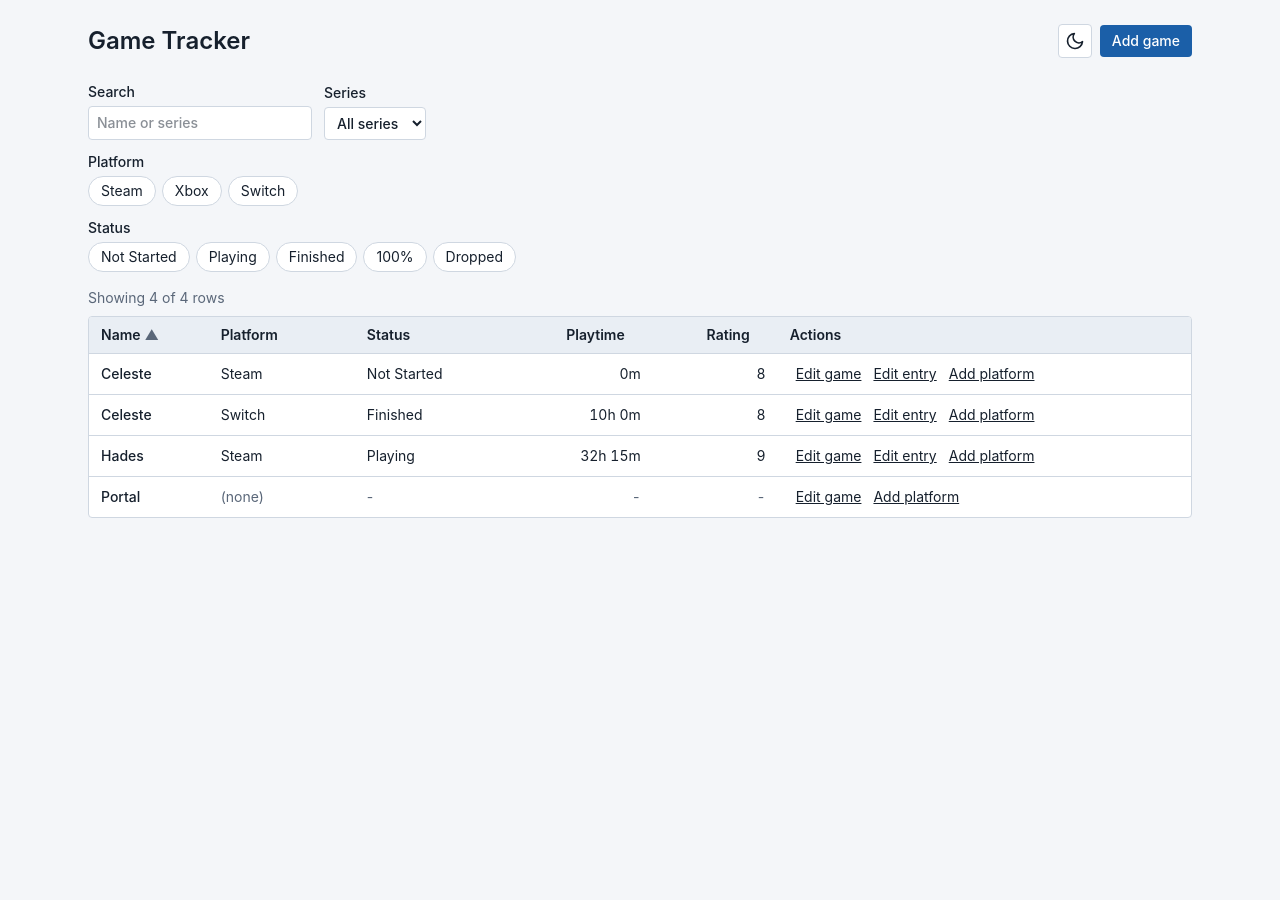
it: LibraryPage › deletes a game only after confirmation
This screenshot has width=1280, height=900.
Expected: the table is shown, [89,317,1191,517]
# Celeste has two rows, each with its own "Edit game" button.
Click the button with aria-label "Edit game Celeste" at [829, 374], box [790,362,868,386]
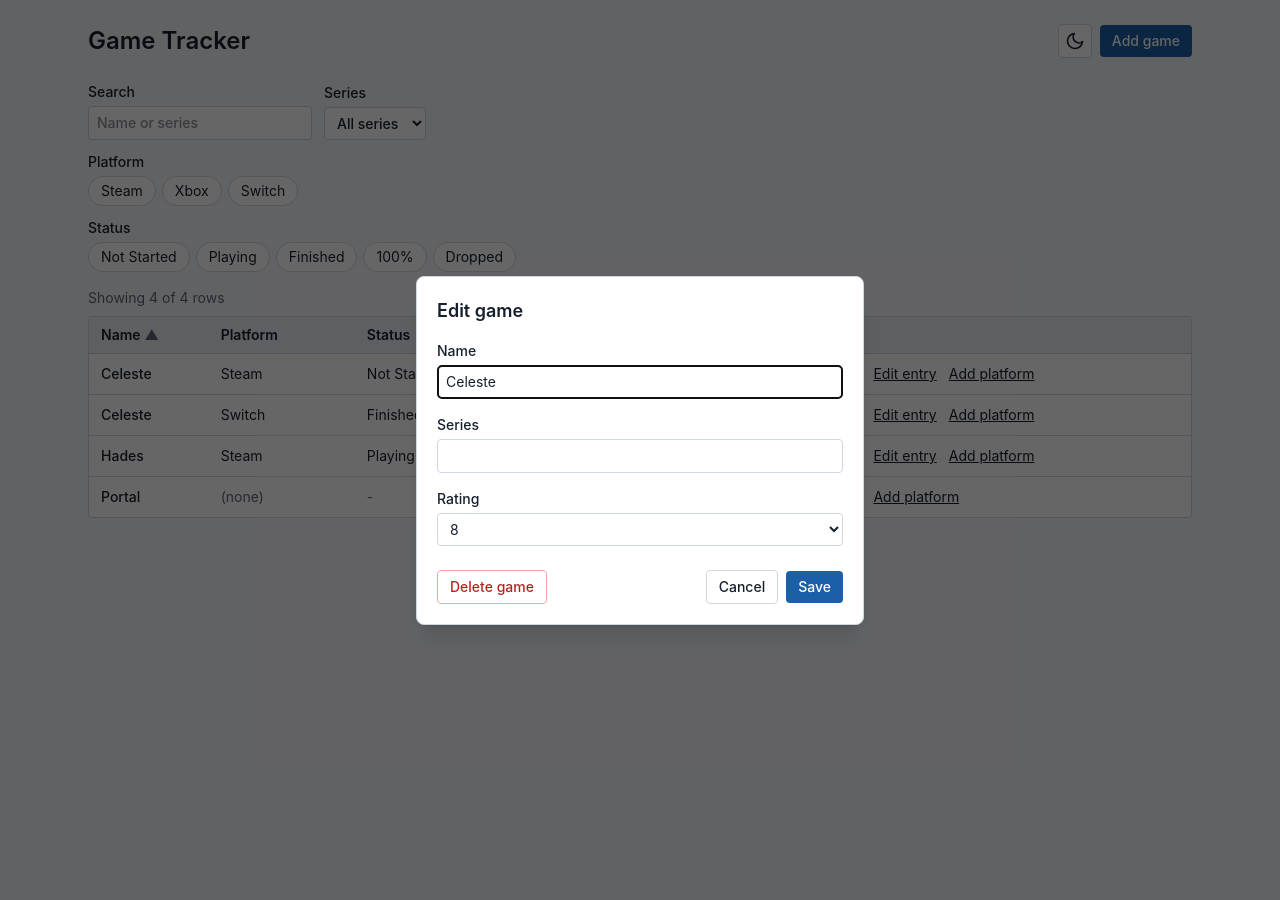
Click the button "Delete game" at [492, 586], box [437,570,547,604]
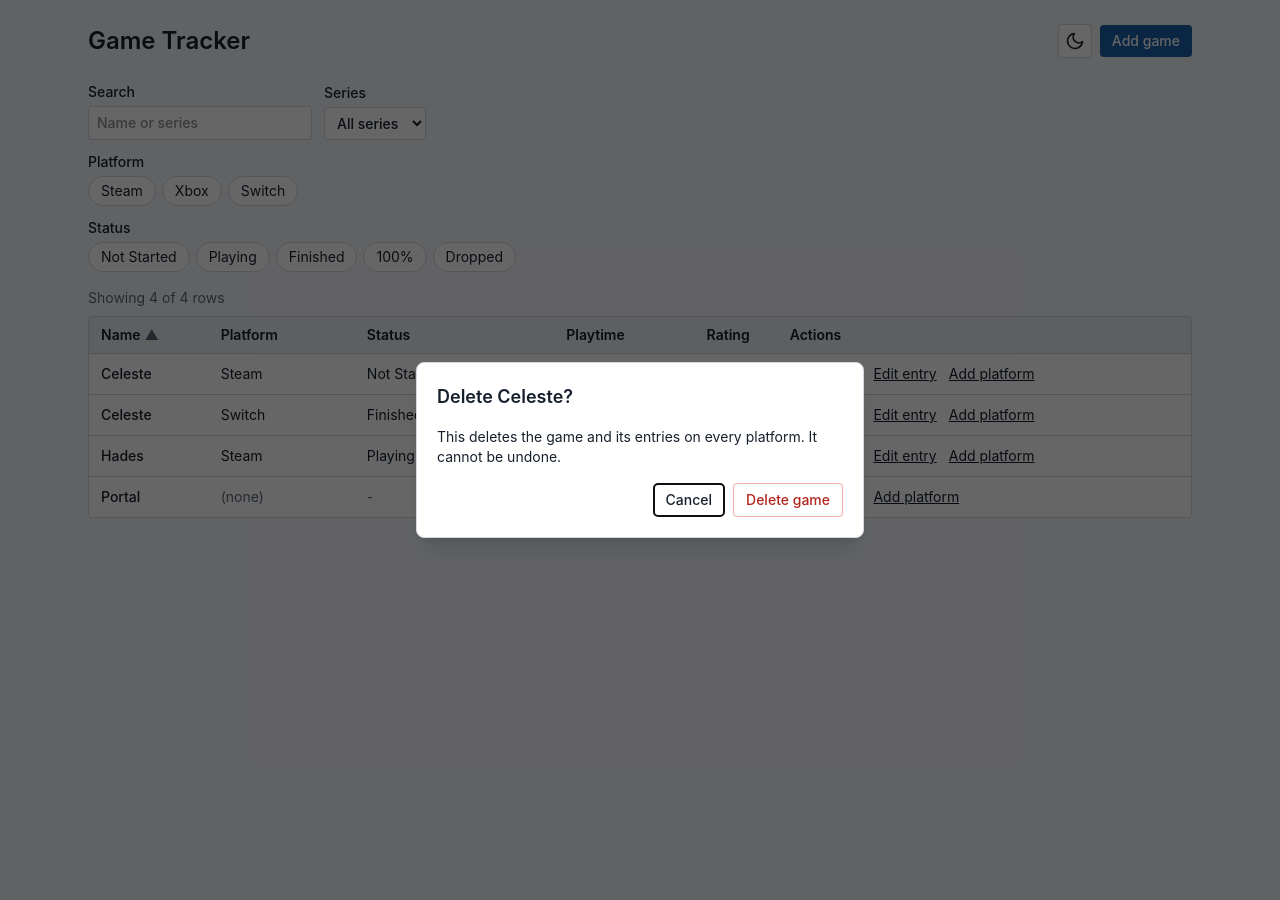
Click the button "Delete game" at [788, 500], box [733,483,843,517]
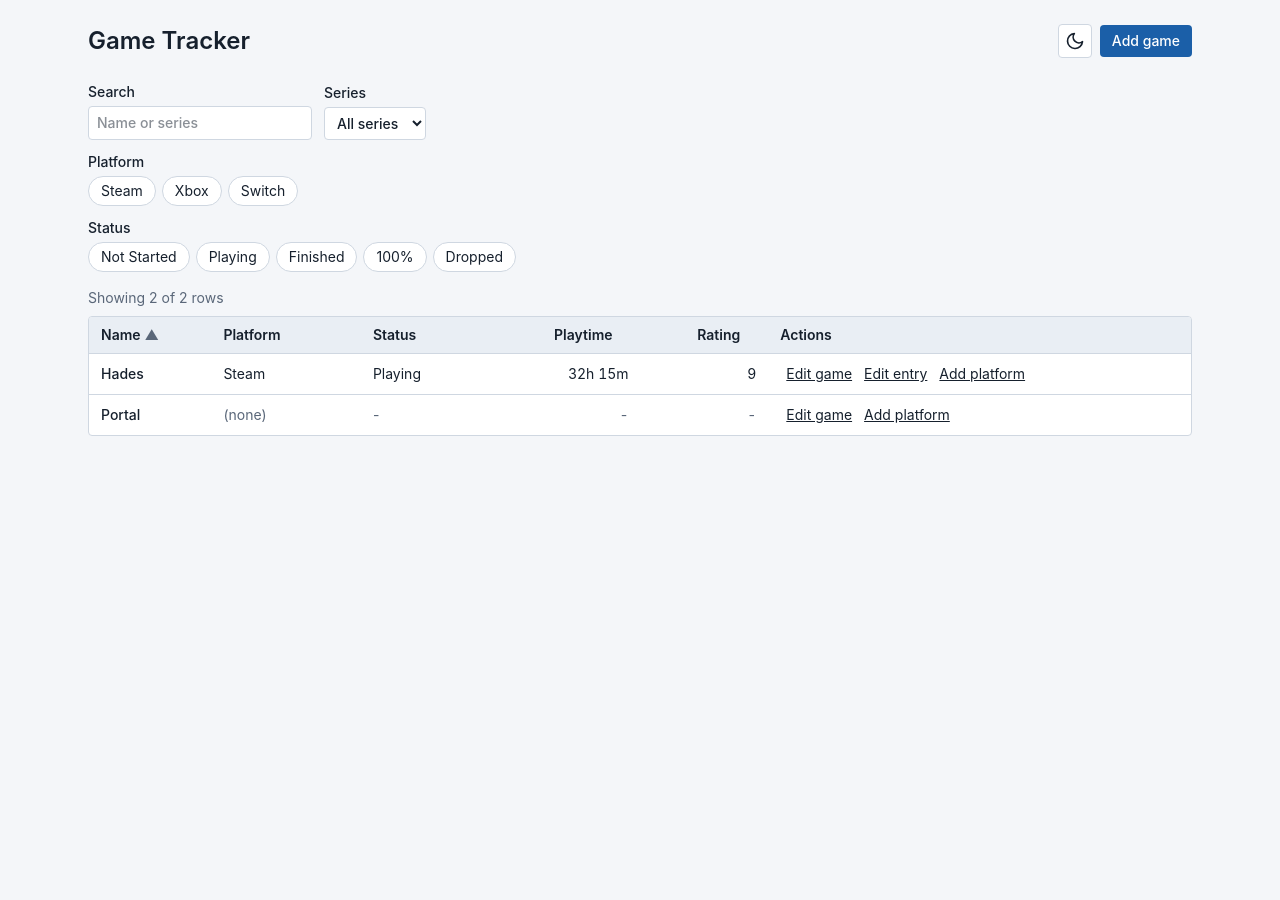
Result: the text "Showing 2 of 2 rows" is shown at [88,289,224,306]
Result: the dialog is gone
